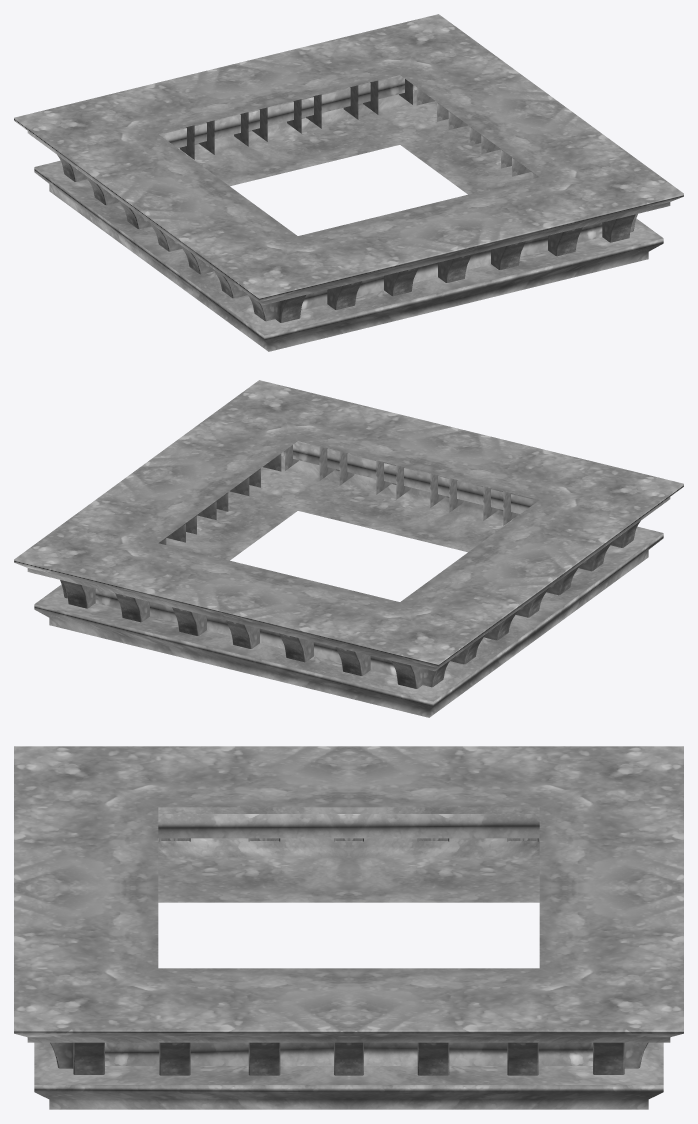
The model's file is SM_WallTrim_01e.fbx.
3 renders of one model, top to bottom at view 1: azimuth 30°, elevation 25°; view 2: azimuth 150°, elevation 25°; view 3: azimuth 270°, elevation 25°, orthographic. The views are drawn at different scales.
Parts seen in each view (by area): view 1: SM_WallTrim_01e_LOD0; view 2: SM_WallTrim_01e_LOD0; view 3: SM_WallTrim_01e_LOD0.
Boxes of the visible parts, x1=… form: SM_WallTrim_01e_LOD0: x1=14, y1=14, x2=683, y2=351; SM_WallTrim_01e_LOD0: x1=14, y1=380, x2=683, y2=717; SM_WallTrim_01e_LOD0: x1=14, y1=746, x2=683, y2=1109.
Bounding box in the file's own units: 335 × 335 × 52.59.
